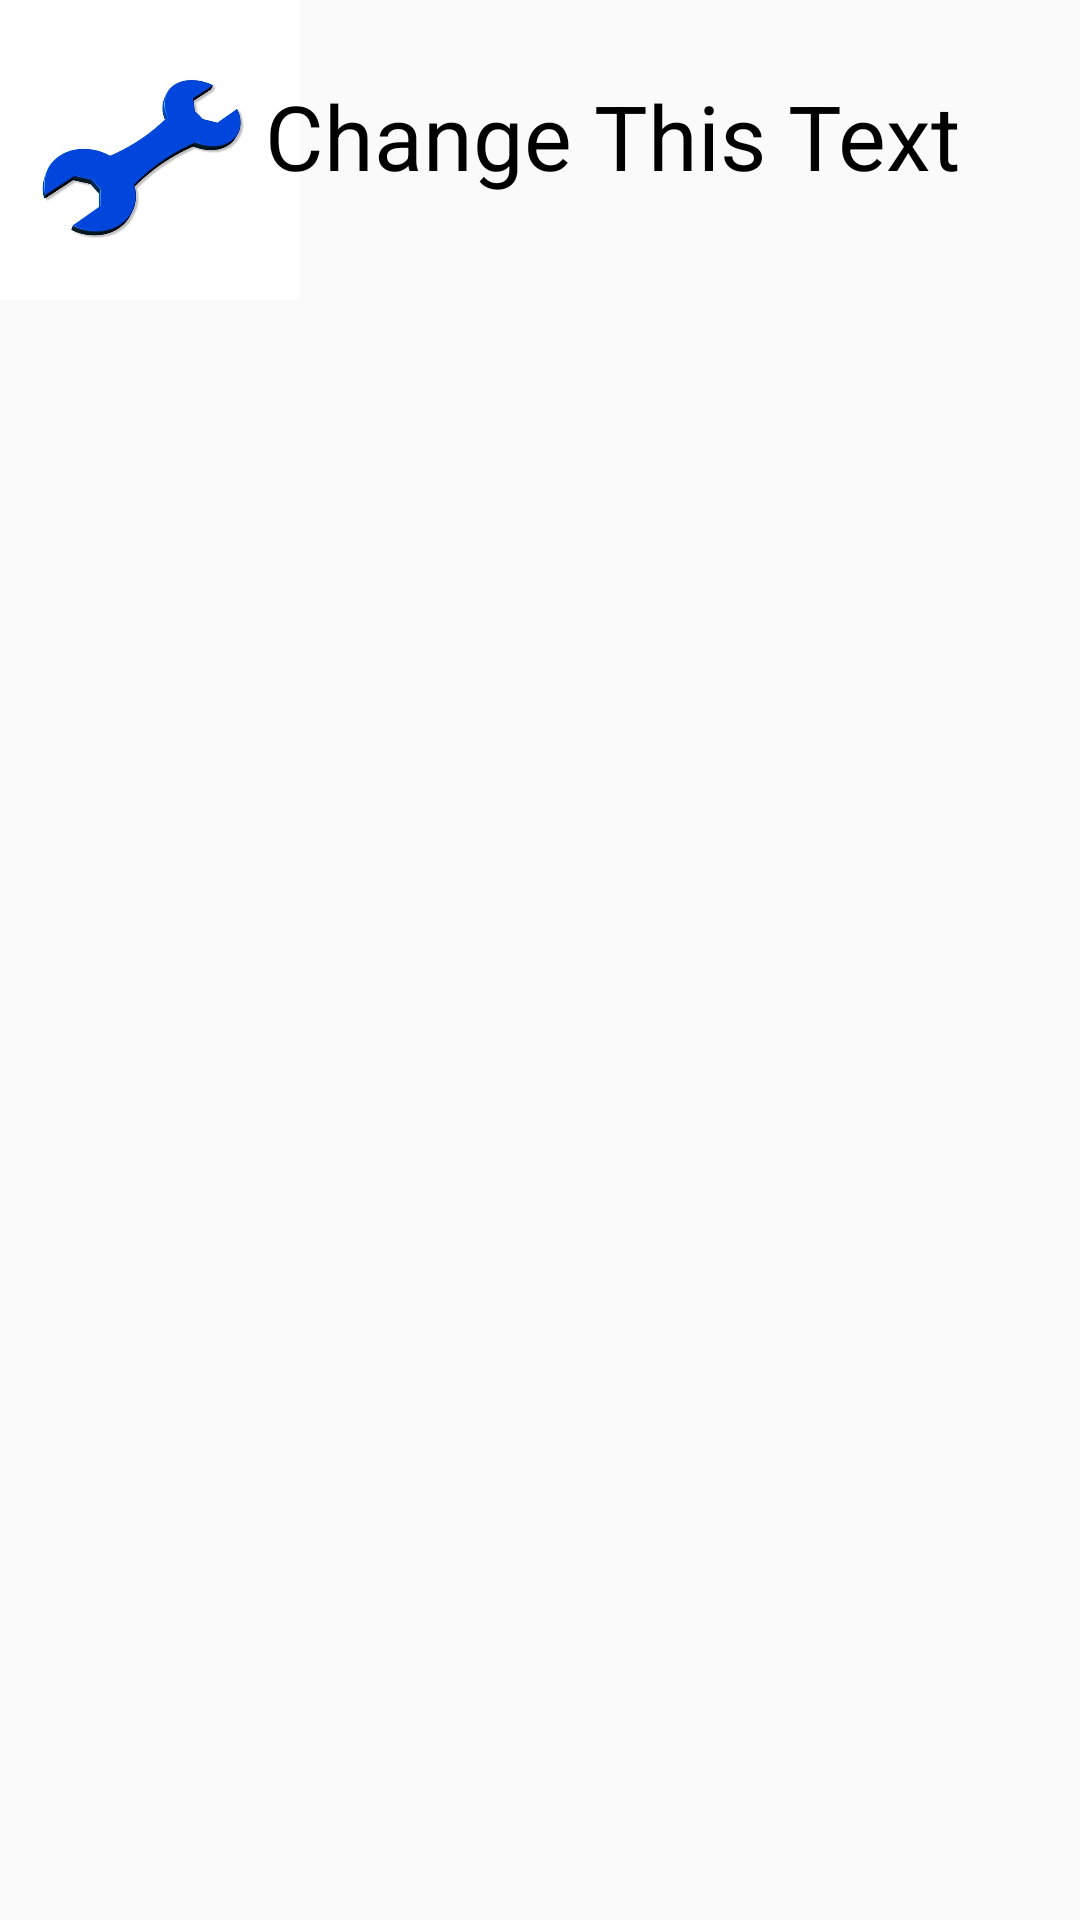

Where to tap for icons on this 1080×1920 app screen, as (x=x, y=y):
tool: (x=142, y=159)
